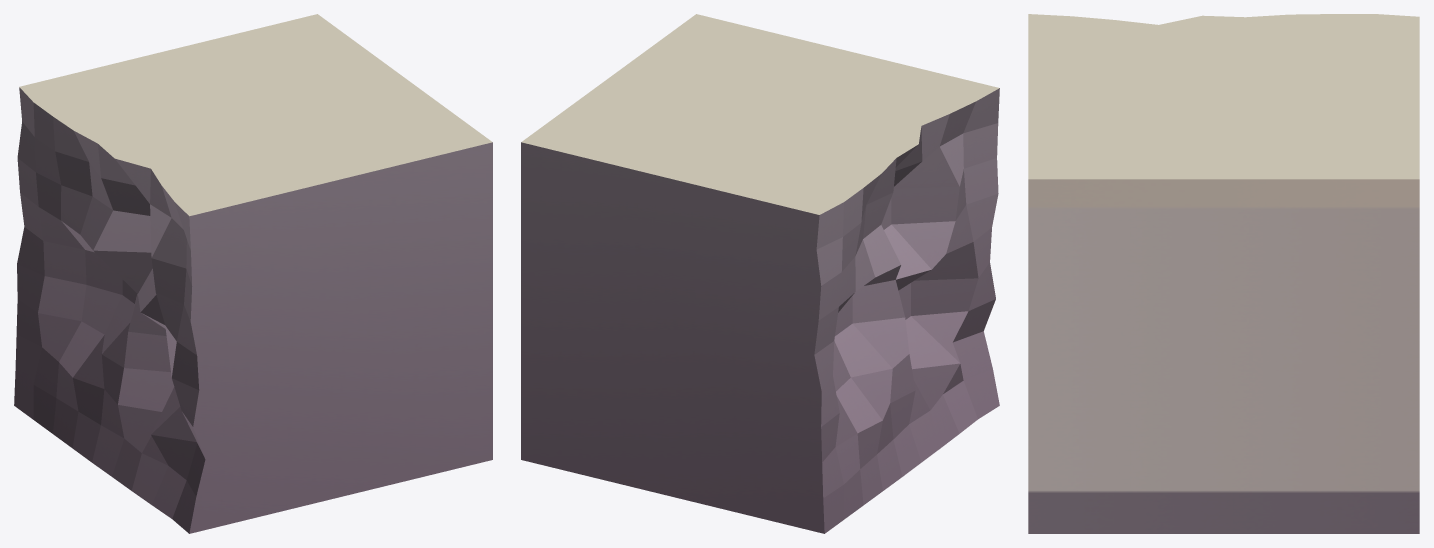
Rendered from middleTerrainTile1.fbx.
The picture shows the model from 3 angles, left to right: view 1: azimuth 30°, elevation 25°; view 2: azimuth 150°, elevation 25°; view 3: azimuth 270°, elevation 25°; orthographic projection. The views are drawn at different scales.
Parts seen in each view (by area): view 1: base6.001; view 2: base6.001; view 3: base6.001.
Part boxes in pixels (<box>): base6.001: <box>14,14,492,533</box>; base6.001: <box>521,14,999,533</box>; base6.001: <box>1028,14,1419,533</box>.
Bounding box in the file's own units: 200 × 200 × 200.
